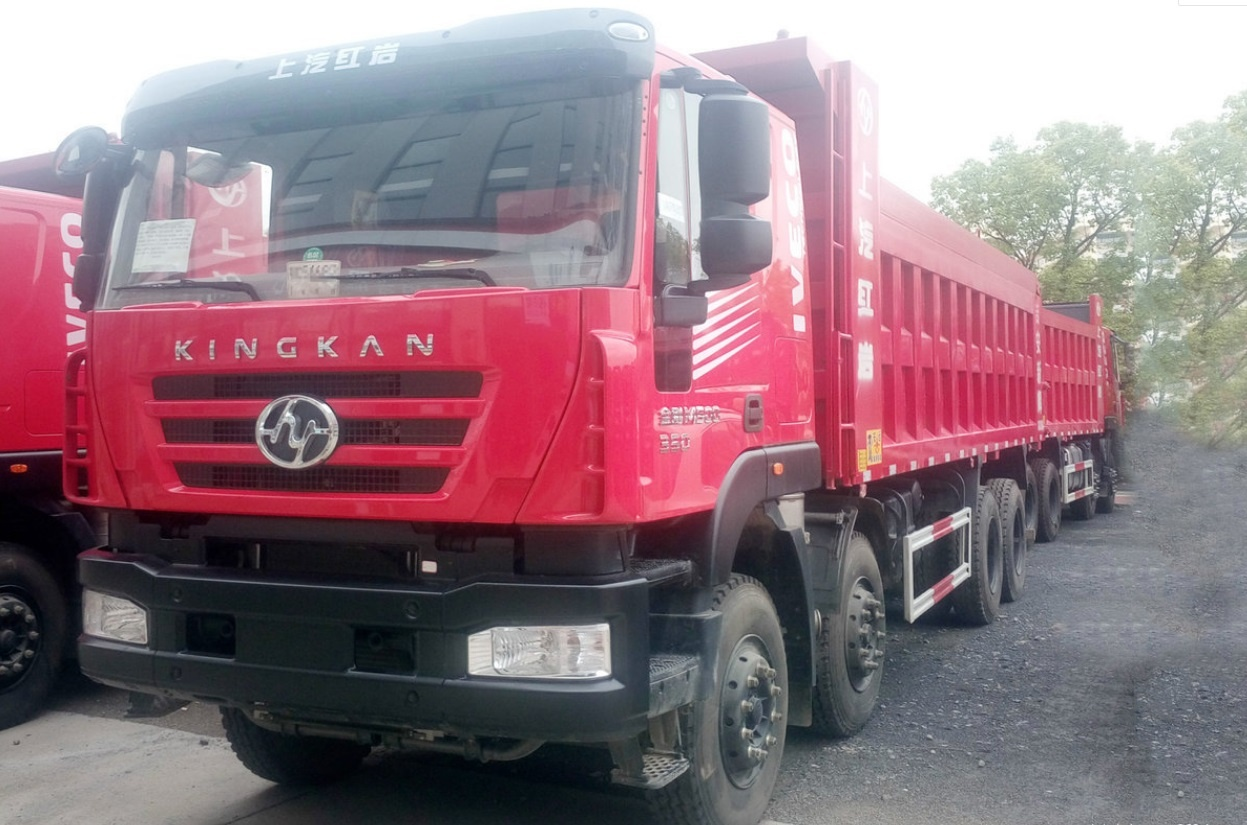heavy truck: (71, 21, 1124, 796)
